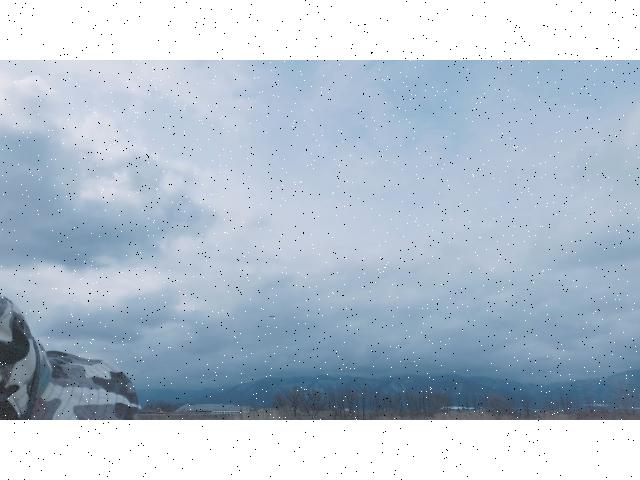Anti-Drone: (264, 312, 276, 320)
